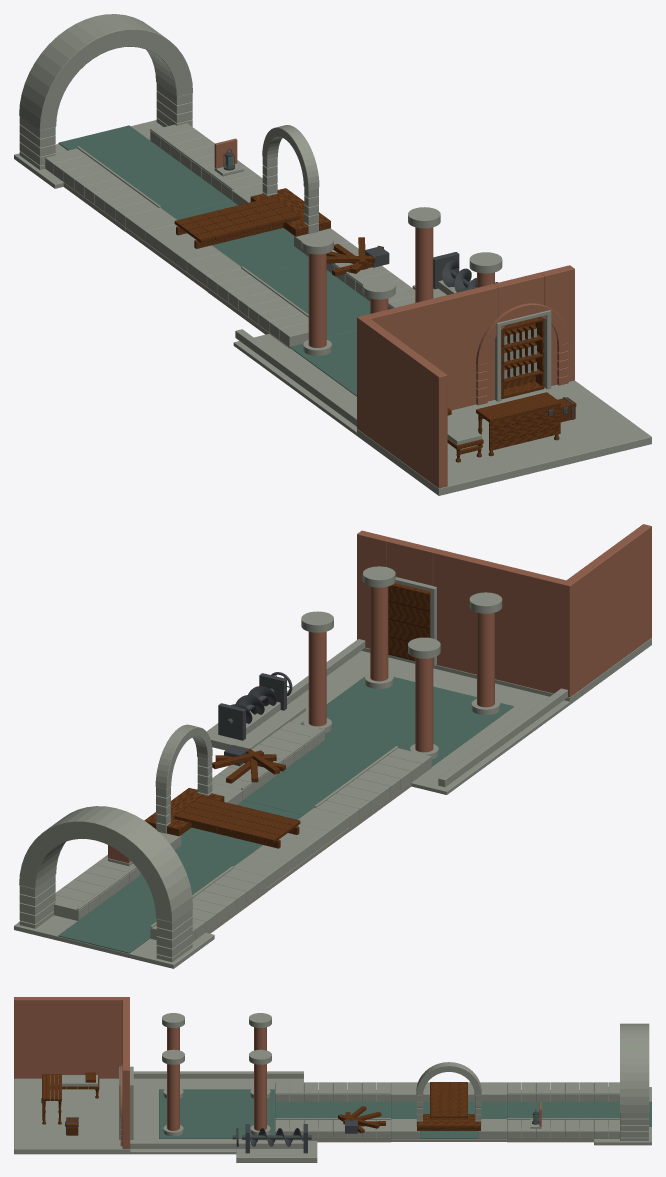
File: undercity-sewers-and-thieves-den-outfall-b2756506-starter-scene__27259.glb
3 views of the same model, one above another, from view 1: azimuth 30°, elevation 25°; view 2: azimuth 150°, elevation 25°; view 3: azimuth 270°, elevation 25° (orthographic). The views are drawn at different scales.
Visible parts, largest first — view 1: 011-pump-room-shell/1, 003-outfall-arch/0, 011-pump-room-shell/0, 000-brick-barrel-open-cutaway/2, 002-brick-barrel-open-cutaway/2, 000-brick-barrel-open-cutaway/1, 001-t-junction/2, 007-cistern-columns/1, 002-brick-barrel-open-cutaway/1, 001-t-junction/1, 005-plank-bridge/0, 004-arched-den-threshold/0 (+13 smaller); view 2: 011-pump-room-shell/1, 003-outfall-arch/0, 006-cistern-hall-floor/1, 007-cistern-columns/1, 006-cistern-hall-floor/0, 002-brick-barrel-open-cutaway/2, 000-brick-barrel-open-cutaway/2, 002-brick-barrel-open-cutaway/1, 001-t-junction/2, 007-cistern-columns/0, 006-cistern-hall-floor/2, 000-brick-barrel-open-cutaway/1 (+12 smaller); view 3: 011-pump-room-shell/1, 011-pump-room-shell/0, 000-brick-barrel-open-cutaway/2, 006-cistern-hall-floor/1, 003-outfall-arch/0, 002-brick-barrel-open-cutaway/2, 006-cistern-hall-floor/0, 006-cistern-hall-floor/2, 001-t-junction/2, 007-cistern-columns/1, 000-brick-barrel-open-cutaway/1, 002-brick-barrel-open-cutaway/1 (+17 smaller).
Boxes of the visible parts, left/top/right/bottom form: 011-pump-room-shell/1: left=357, top=265, right=574, bottom=488; 003-outfall-arch/0: left=14, top=14, right=192, bottom=188; 011-pump-room-shell/0: left=357, top=380, right=651, bottom=495; 000-brick-barrel-open-cutaway/2: left=45, top=123, right=262, bottom=227; 002-brick-barrel-open-cutaway/2: left=207, top=242, right=415, bottom=347; 000-brick-barrel-open-cutaway/1: left=91, top=140, right=231, bottom=215; 001-t-junction/2: left=125, top=183, right=348, bottom=287; 007-cistern-columns/1: left=308, top=227, right=494, bottom=347; 002-brick-barrel-open-cutaway/1: left=255, top=262, right=370, bottom=337; 001-t-junction/1: left=171, top=200, right=308, bottom=274; 005-plank-bridge/0: left=174, top=196, right=300, bottom=243; 004-arched-den-threshold/0: left=262, top=125, right=319, bottom=233; 011-pump-room-shell/1: left=357, top=524, right=651, bottom=697; 003-outfall-arch/0: left=14, top=806, right=214, bottom=968; 006-cistern-hall-floor/1: left=300, top=676, right=513, bottom=766; 007-cistern-columns/1: left=308, top=586, right=494, bottom=752; 006-cistern-hall-floor/0: left=290, top=651, right=569, bottom=794; 002-brick-barrel-open-cutaway/2: left=212, top=721, right=431, bottom=826; 000-brick-barrel-open-cutaway/2: left=54, top=855, right=267, bottom=941; 002-brick-barrel-open-cutaway/1: left=243, top=740, right=383, bottom=814; 001-t-junction/2: left=159, top=783, right=349, bottom=886; 007-cistern-columns/0: left=301, top=566, right=502, bottom=759; 006-cistern-hall-floor/2: left=246, top=639, right=567, bottom=786; 000-brick-barrel-open-cutaway/1: left=79, top=866, right=219, bottom=937; 011-pump-room-shell/1: left=14, top=997, right=129, bottom=1148; 011-pump-room-shell/0: left=14, top=1078, right=129, bottom=1154; 000-brick-barrel-open-cutaway/2: left=507, top=1082, right=619, bottom=1138; 006-cistern-hall-floor/1: left=159, top=1089, right=274, bottom=1138; 003-outfall-arch/0: left=594, top=1023, right=651, bottom=1145; 002-brick-barrel-open-cutaway/2: left=275, top=1082, right=390, bottom=1138; 006-cistern-hall-floor/0: left=130, top=1078, right=303, bottom=1154; 006-cistern-hall-floor/2: left=130, top=1071, right=303, bottom=1148; 001-t-junction/2: left=391, top=1082, right=506, bottom=1138; 007-cistern-columns/1: left=167, top=1027, right=266, bottom=1130; 000-brick-barrel-open-cutaway/1: left=507, top=1101, right=619, bottom=1126; 002-brick-barrel-open-cutaway/1: left=275, top=1101, right=390, bottom=1126.
Bounding box in the file's own units: 6.7 × 3.36 × 22.
Materials: 6 (1 with a texture image).
